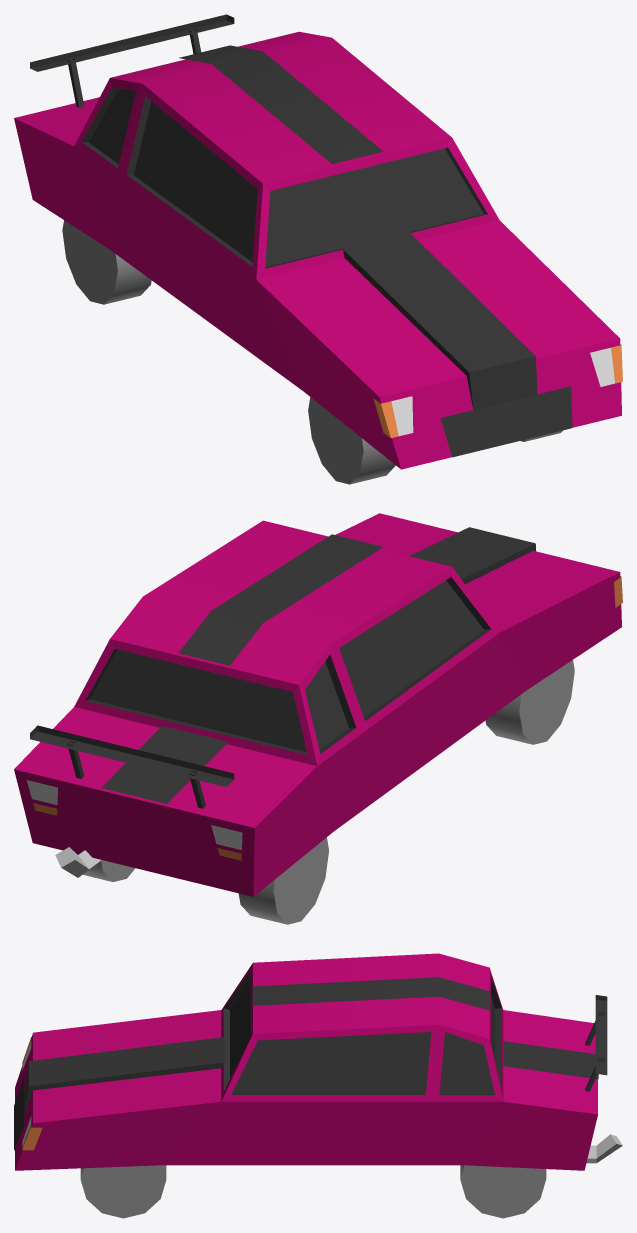
File: sportscar_15.fbx
The picture shows the model from 3 angles, top to bottom: view 1: azimuth 30°, elevation 25°; view 2: azimuth 150°, elevation 25°; view 3: azimuth 270°, elevation 25°; orthographic projection. The views are drawn at different scales.
Parts seen in each view (by area): view 1: sportscar_15; view 2: sportscar_15; view 3: sportscar_15.
Boxes of the visible parts, x1,y1,x2,y2 form: sportscar_15: (14,14,622,484); sportscar_15: (14,513,622,924); sportscar_15: (14,953,622,1218).
Size of the model in its own units: 1.6 by 1.56 by 4.49.
